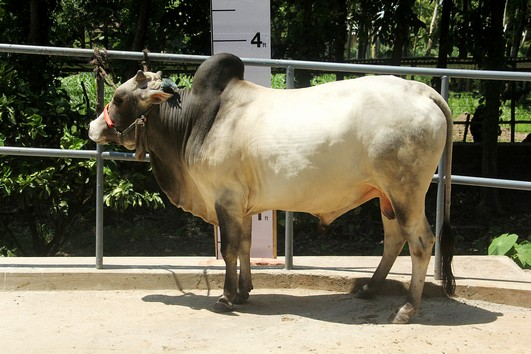cow: (78, 49, 459, 326)
